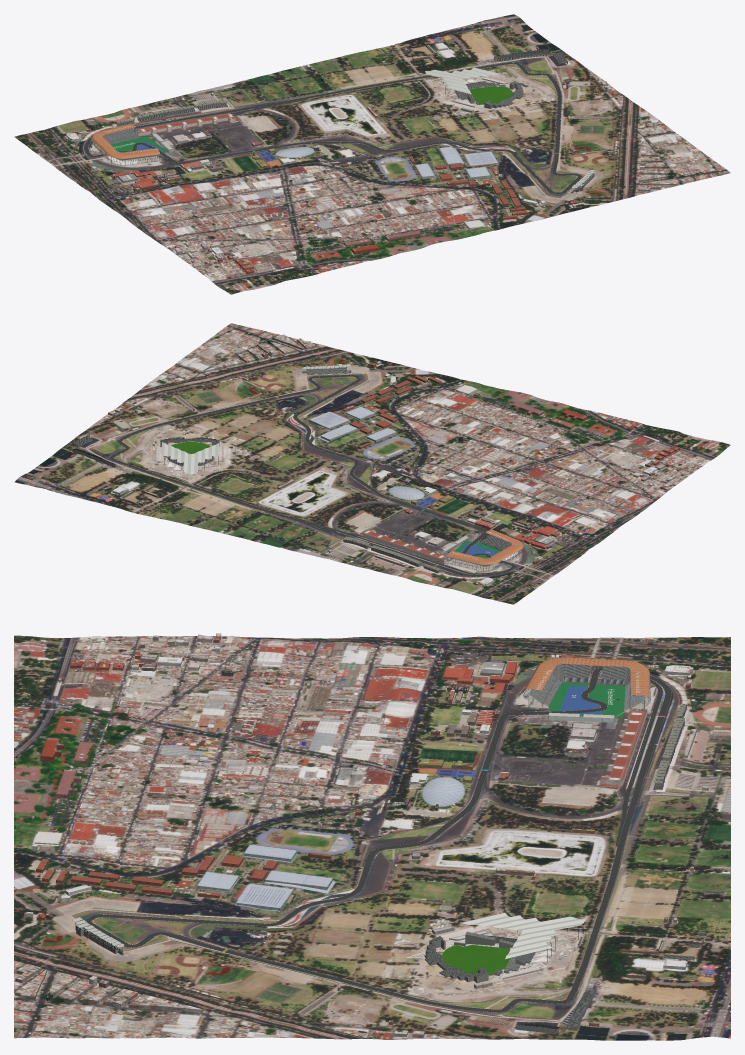
File: mexico.glb
The picture shows the model from 3 angles, top to bottom: view 1: azimuth 30°, elevation 25°; view 2: azimuth 150°, elevation 25°; view 3: azimuth 270°, elevation 25°; orthographic projection. The views are drawn at different scales.
Visible parts, largest first — view 1: Mexico_Terrain, Mexico_Source_Roofs, Mexico_Buildings, Mexico_Raceway, Mexico_Grandstands, Mexico_Infrastructure, Mexico_Grandstand_Seat_Rows, Mexico_Verified_Event_Surfaces, Mexico_Stadium_Canopy, Mexico_Baseball_Stadium_Roof; view 2: Mexico_Terrain, Mexico_Source_Roofs, Mexico_Buildings, Mexico_Raceway, Mexico_Infrastructure, Mexico_Grandstands, Mexico_Baseball_Stadium_Roof, Mexico_Grandstand_Seat_Rows, Mexico_Stadium_Canopy, Mexico_Verified_Event_Surfaces; view 3: Mexico_Terrain, Mexico_Source_Roofs, Mexico_Buildings, Mexico_Raceway, Mexico_Grandstands, Mexico_Verified_Event_Surfaces, Mexico_Infrastructure, Mexico_Baseball_Stadium_Roof, Mexico_Stadium_Grandstands, Mexico_Grandstand_Seat_Rows, Mexico_Stadium_Canopy, Mexico_Pit_Lane (+1 smaller).
Boxes of the visible parts, box(x1,y1,x2,y2) form: Mexico_Terrain: box(14, 14, 730, 294); Mexico_Source_Roofs: box(66, 42, 679, 272); Mexico_Buildings: box(66, 44, 679, 273); Mexico_Raceway: box(84, 62, 581, 193); Mexico_Grandstands: box(116, 45, 595, 193); Mexico_Infrastructure: box(55, 22, 621, 219); Mexico_Grandstand_Seat_Rows: box(117, 45, 593, 192); Mexico_Verified_Event_Surfaces: box(111, 86, 512, 154); Mexico_Stadium_Canopy: box(91, 123, 159, 158); Mexico_Baseball_Stadium_Roof: box(425, 67, 501, 94); Mexico_Terrain: box(14, 323, 730, 604); Mexico_Source_Roofs: box(71, 334, 684, 584); Mexico_Buildings: box(70, 337, 685, 585); Mexico_Raceway: box(109, 374, 516, 576); Mexico_Infrastructure: box(34, 353, 580, 582); Mexico_Grandstands: box(72, 364, 439, 573); Mexico_Baseball_Stadium_Roof: box(162, 442, 219, 474); Mexico_Grandstand_Seat_Rows: box(73, 367, 439, 571); Mexico_Stadium_Canopy: box(446, 529, 523, 564); Mexico_Verified_Event_Surfaces: box(171, 442, 500, 564); Mexico_Terrain: box(14, 635, 730, 1040); Mexico_Source_Roofs: box(15, 633, 708, 1034); Mexico_Buildings: box(15, 635, 708, 1037); Mexico_Raceway: box(85, 667, 671, 1012); Mexico_Grandstands: box(72, 704, 724, 1034); Mexico_Verified_Event_Surfaces: box(441, 682, 625, 975); Mexico_Infrastructure: box(22, 640, 729, 1029); Mexico_Baseball_Stadium_Roof: box(461, 913, 585, 958); Mexico_Stadium_Grandstands: box(529, 664, 644, 710); Mexico_Grandstand_Seat_Rows: box(77, 706, 724, 1029); Mexico_Stadium_Canopy: box(524, 657, 649, 697); Mexico_Pit_Lane: box(616, 679, 662, 846).
Size of the model in its own units: 1700 by 38.91 by 1280.
16 materials, 11 textured.
